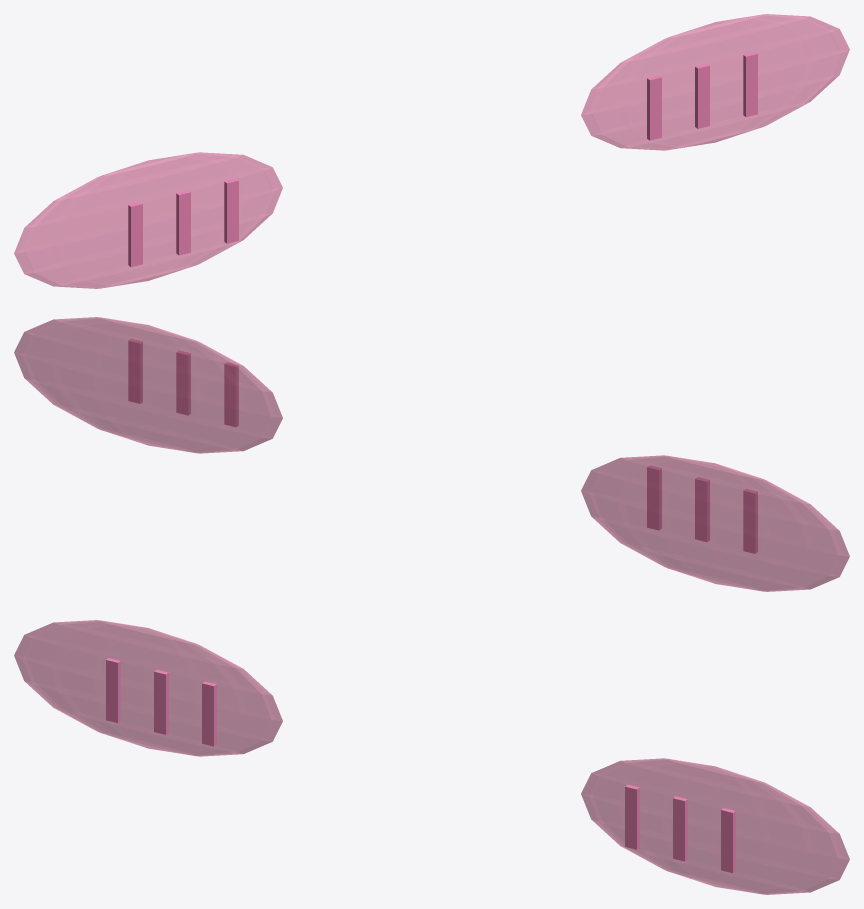
The model's file is anime-blush.glb.
3 renders of one model, top to bottom at view 1: azimuth 30°, elevation 25°; view 2: azimuth 150°, elevation 25°; view 3: azimuth 330°, elevation 25°, orthographic.
Parts seen in each view (by area): view 1: blush (×2), blush line (×6); view 2: blush (×2), blush line (×6); view 3: blush (×2), blush line (×6).
Part boxes in pixels (box(x1,y1,x2,y2)): blush (×2): box(14, 14, 849, 288); blush line (×6): box(128, 52, 757, 267); blush (×2): box(14, 317, 849, 591); blush line (×6): box(128, 339, 757, 553); blush (×2): box(14, 620, 849, 894); blush line (×6): box(106, 658, 735, 873).
Size of the model in its own units: 1.74 by 0.24 by 0.06.
